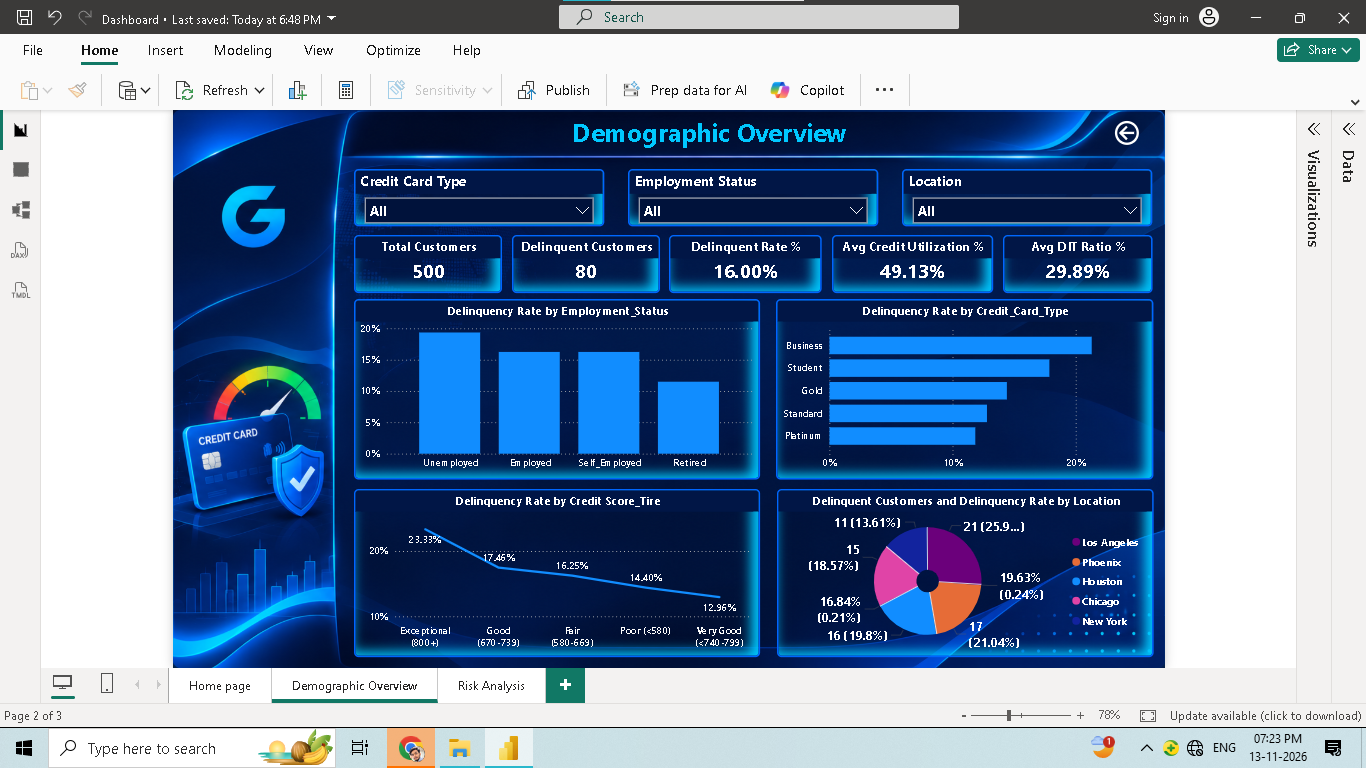

This screenshot's page, from the dashboard's own definition file:
{"tool":"powerbi","page":{"name":"Demographic Overview","canvas":[1280,720],"ordinal":1},"visuals":[{"type":"slicer","title":"Credit Card Type","fields":{"Values":["Final_cleaned_dataset.Credit_Card_Type"]},"box":[233.9,76.5,323,73.7],"z":0},{"type":"slicer","title":"Employment Status","fields":{"Values":["Final_cleaned_dataset.Employment_Status"]},"box":[586.8,76.5,323.1,73.7],"z":1000},{"type":"slicer","title":"Location","fields":{"Values":["Final_cleaned_dataset.Location"]},"box":[941.1,76.5,323.1,73.7],"z":2000},{"type":"card","title":"Avg Credit Utilization %","fields":{"Values":["Final_cleaned_dataset.Avg Credit Utilization %"]},"box":[850.4,161.6,208.3,75.1],"z":3000},{"type":"card","title":"Avg DIT Ratio %","fields":{"Values":["Final_cleaned_dataset.Avg DIT Ratio %"]},"box":[1071.5,161.6,192.8,75.1],"z":4000},{"type":"card","title":"Delinquent Customers","fields":{"Values":["Final_cleaned_dataset.Delinquent Customers"]},"box":[438,161.6,191.3,75.1],"z":5000},{"type":"card","title":"Delinquent Rate %","fields":{"Values":["Final_cleaned_dataset.Delinquency Rate%"]},"box":[640.6,161.6,197,75.1],"z":6000},{"type":"card","title":"Total Customers","fields":{"Values":["Final_cleaned_dataset.Total Customer"]},"box":[233.9,161.6,191.3,75.1],"z":7000},{"type":"textbox","box":[243.6,0,896,60.6],"z":8000},{"type":"clusteredBarChart","title":"Delinquency Rate by Credit_Card_Type","fields":{"Category":["Final_cleaned_dataset.Credit_Card_Type"],"Y":["Final_cleaned_dataset.Delinquency Rate%"]},"box":[777.6,243.6,487.2,232.6],"z":9000},{"type":"clusteredColumnChart","title":"Delinquency Rate by Employment_Status","fields":{"Category":["Final_cleaned_dataset.Employment_Status"],"Y":["Final_cleaned_dataset.Delinquency Rate%"]},"box":[234,243.6,524.4,232.6],"z":10000},{"type":"donutChart","title":"Delinquent Customers and Delinquency Rate by Location","fields":{"Category":["Final_cleaned_dataset.Location"],"Y":["Final_cleaned_dataset.Delinquent Customers","Final_cleaned_dataset.Delinquency Rate%"]},"box":[779,488.6,485.8,217.5],"z":11000},{"type":"lineChart","title":"Delinquency Rate by Credit Score_Tire","fields":{"Category":["Final_cleaned_dataset.Credit Score_Tire"],"Y":["Final_cleaned_dataset.Delinquency Rate%"]},"box":[234,488.6,524.4,217.5],"z":12000},{"type":"actionButton","box":[1210.4,8.5,55.3,41.1],"z":13000}]}

Visuals, with their boxes on the page's 1280x720 design canvas (x1, y1, x2, y2). These are canvas units, not pixel positions in the 1366x768 screenshot, which may show the page scaled, cropped or inside an application window:
"Credit Card Type" slicer: (234,76,557,150)
"Employment Status" slicer: (587,76,910,150)
"Location" slicer: (941,76,1264,150)
"Avg Credit Utilization %" card: (850,162,1059,237)
"Avg DIT Ratio %" card: (1072,162,1264,237)
"Delinquent Customers" card: (438,162,629,237)
"Delinquent Rate %" card: (641,162,838,237)
"Total Customers" card: (234,162,425,237)
textbox: (244,0,1140,61)
"Delinquency Rate by Credit_Card_Type" clusteredBarChart: (778,244,1265,476)
"Delinquency Rate by Employment_Status" clusteredColumnChart: (234,244,758,476)
"Delinquent Customers and Delinquency Rate by Location" donutChart: (779,489,1265,706)
"Delinquency Rate by Credit Score_Tire" lineChart: (234,489,758,706)
actionButton: (1210,8,1266,50)
